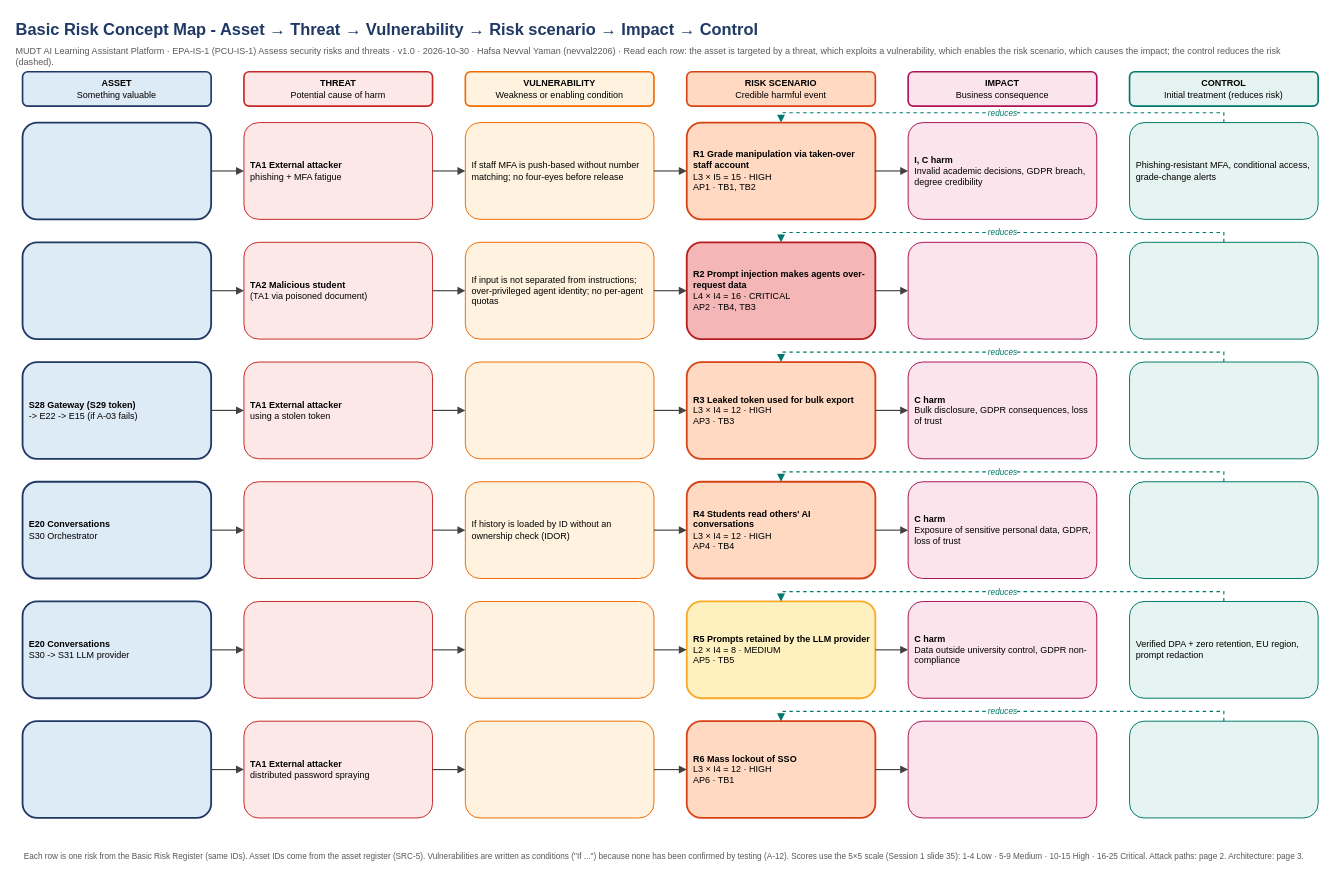
This 1333x892 diagram has some shape labels left out. Here are the shapes that lost their labels. From the top down, the centre of each, then its label:
the point at 116,170: E15 Grades S13 Identity Provider (via S02/S04 staff accounts)
the point at 116,290: S30 Agents -> S28 Gateway -> E22 -> E15 (if A-03 fails)
the point at 1002,290: C (I of answers) harm Mass disclosure, GDPR breach, AI features suspended
the point at 1223,290: Least-privilege MCP tools, gateway allow-list + quotas, volume alerts
the point at 559,410: If a leaked token is accepted without mTLS binding or volume limits
the point at 1223,410: Sender-bound short-lived tokens, secret scanning, quotas
the point at 338,530: TA2 Curious / malicious student
the point at 1223,530: Ownership check bound to SSO identity, random IDs, access tests
the point at 338,649: TA4 LLM supplier
the point at 559,649: If zero-retention / no-training terms are not configured; prompts unredacted
the point at 116,769: S13 Identity Provider
the point at 559,769: If lockout is per account with fixed thresholds; no per-source rate limiting
the point at 1002,769: A harm No logins: grade release, submissions, AI tutor stop
the point at 1223,769: Smart lockout, WAF rate limiting, MFA, spray alerts
